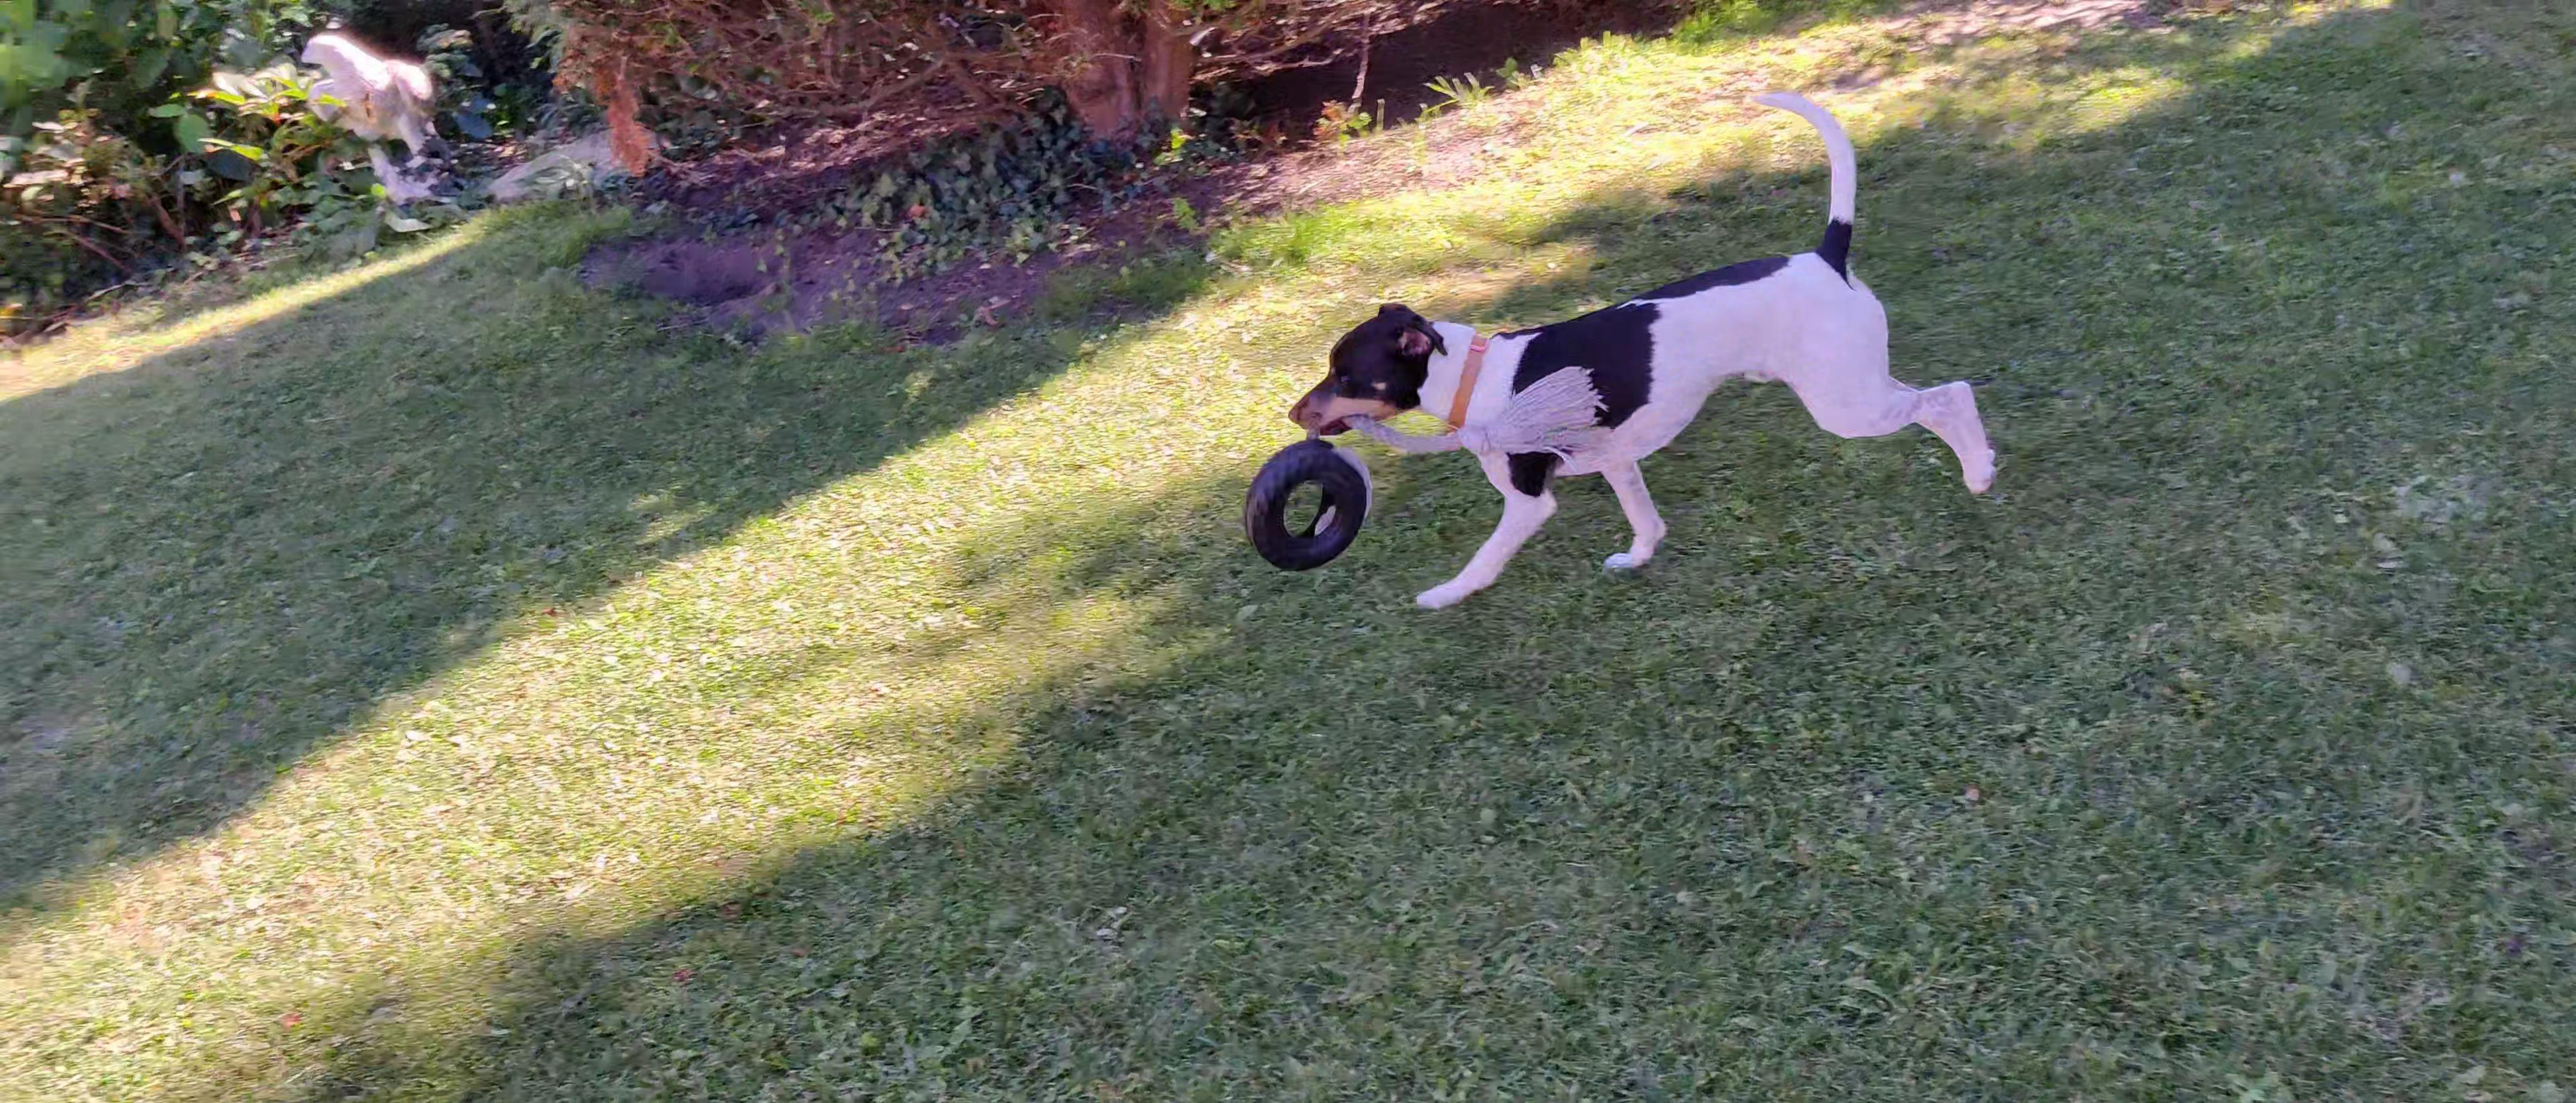Dog: (1285, 81, 2016, 628)
